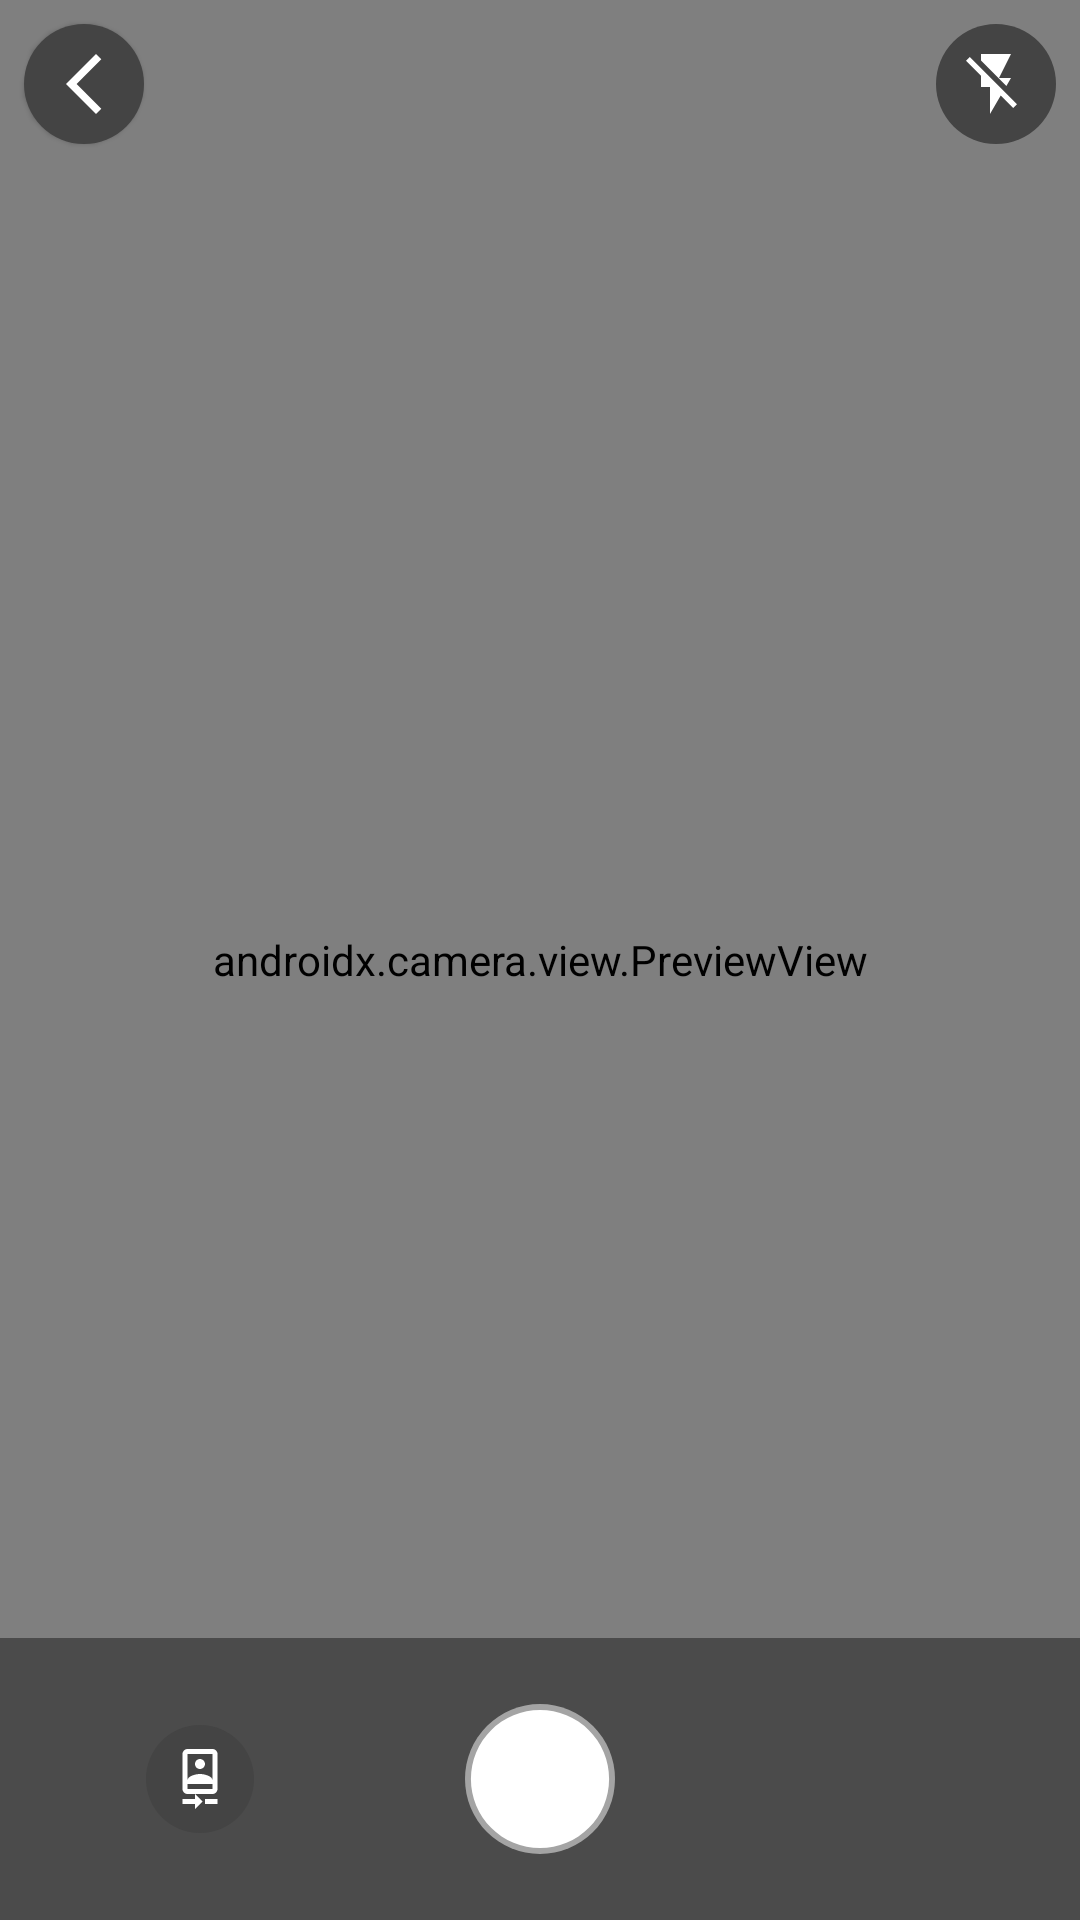

Locate icon controls on the screen. Image size 1080*1920, boxes as (x1, y1, x2, y2).
camera front: (182, 1749, 218, 1809)
flash off: (936, 24, 1056, 144)
take picture: (465, 1704, 615, 1854)
